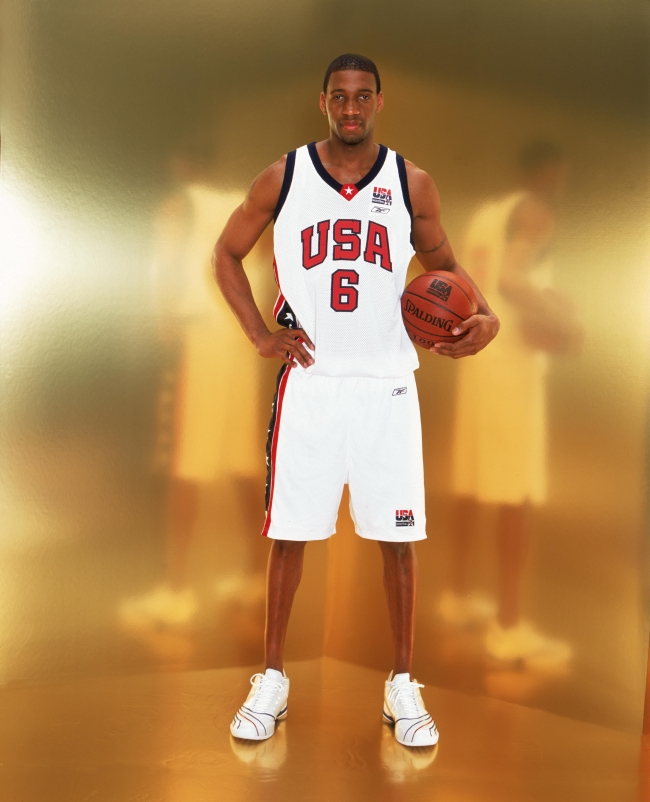ball: (401, 270, 477, 349)
